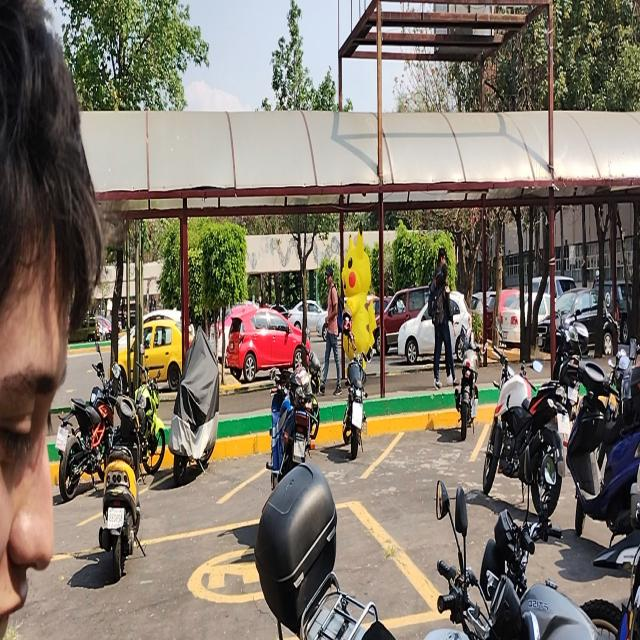adult: (0, 73, 69, 640), (429, 246, 453, 388), (318, 264, 343, 396)
